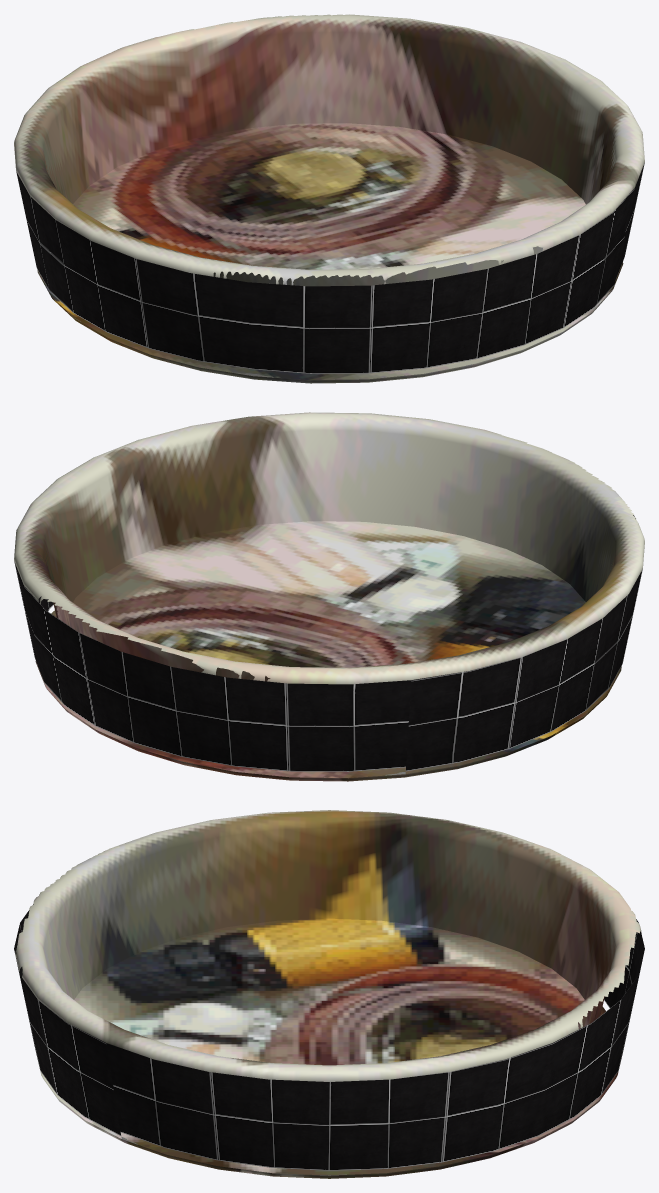
File: Cenicero.fbx
3 views of the same model, one above another, from view 1: azimuth 30°, elevation 25°; view 2: azimuth 150°, elevation 25°; view 3: azimuth 270°, elevation 25° (orthographic).
Visible parts, largest first — view 1: Cecinero; view 2: Cecinero; view 3: Cecinero.
Part boxes in pixels (<box>): Cecinero: <box>14,14,644,383</box>; Cecinero: <box>14,412,644,781</box>; Cecinero: <box>14,810,644,1178</box>.
Bounding box in the file's own units: 0.0971 × 0.0201 × 0.0971.
